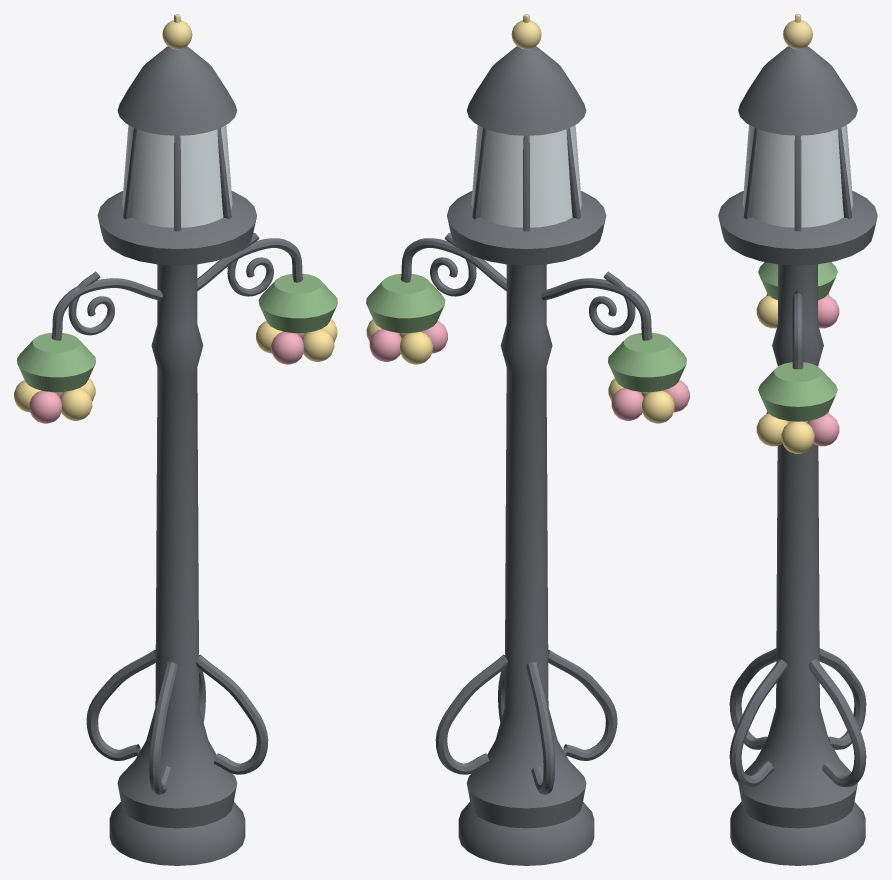
Rendered from th35_laterne_schmiede.glb.
The picture shows the model from 3 angles, left to right: view 1: azimuth 30°, elevation 25°; view 2: azimuth 150°, elevation 25°; view 3: azimuth 270°, elevation 25°; orthographic projection.
Parts seen in each view (by area): view 1: Mast, Glas, Haube, Korbboden, Ampel, Ampel.001, Volute.003, Volute.001, Volute.002, Ausleger.001, Ausleger, Volute2.001 (+7 smaller); view 2: Mast, Glas, Haube, Korbboden, Ampel, Ampel.001, Volute, Volute.002, Volute.001, Ausleger.001, Ausleger, Volute2.001 (+7 smaller); view 3: Mast, Glas, Haube, Korbboden, Ampel, Volute, Volute.003, Volute.001, Volute.002, Ampel.001, Ausleger, Sphere.002 (+8 smaller).
Boxes of the visible parts, bbox=[...] form: Mast: bbox=[109, 264, 245, 865]; Glas: bbox=[122, 125, 232, 227]; Haube: bbox=[117, 46, 237, 135]; Korbboden: bbox=[97, 191, 256, 265]; Ampel: bbox=[258, 273, 337, 334]; Ampel.001: bbox=[17, 332, 95, 392]; Volute.003: bbox=[196, 654, 268, 774]; Volute.001: bbox=[86, 649, 155, 760]; Volute.002: bbox=[149, 662, 177, 794]; Ausleger.001: bbox=[51, 278, 162, 340]; Ausleger: bbox=[197, 238, 303, 291]; Volute2.001: bbox=[68, 271, 114, 335]; Mast: bbox=[458, 264, 594, 865]; Glas: bbox=[471, 125, 581, 227]; Haube: bbox=[466, 46, 586, 135]; Korbboden: bbox=[447, 191, 606, 265]; Ampel: bbox=[366, 273, 445, 334]; Ampel.001: bbox=[608, 332, 686, 392]; Volute: bbox=[435, 654, 507, 774]; Volute.002: bbox=[548, 649, 617, 760]; Volute.001: bbox=[526, 662, 554, 794]; Ausleger.001: bbox=[541, 278, 652, 340]; Ausleger: bbox=[400, 238, 506, 291]; Volute2.001: bbox=[589, 271, 635, 335]; Mast: bbox=[730, 264, 865, 865]; Glas: bbox=[742, 125, 853, 227]; Haube: bbox=[738, 46, 857, 135]; Korbboden: bbox=[718, 191, 877, 265]; Ampel: bbox=[758, 362, 837, 421]; Volute: bbox=[808, 659, 866, 787]; Volute.003: bbox=[729, 659, 787, 787]; Volute.001: bbox=[819, 648, 866, 749]; Volute.002: bbox=[729, 648, 776, 749]; Ampel.001: bbox=[758, 262, 837, 300]; Ausleger: bbox=[792, 292, 803, 369]; Sphere.002: bbox=[781, 421, 814, 453].
Size of the model in its own units: 1.81 by 4.55 by 0.8.
